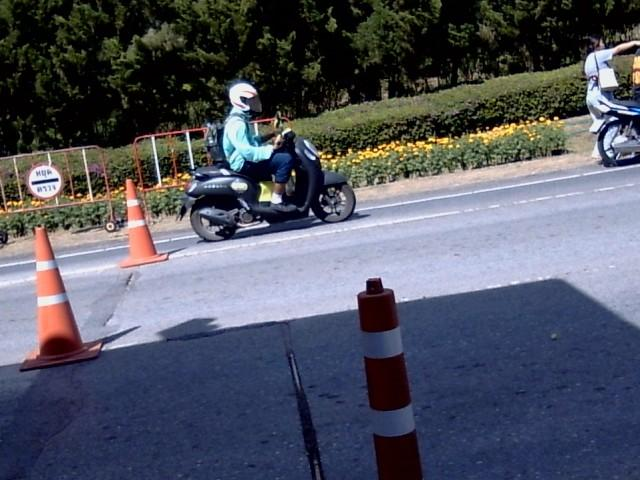helmet: (229, 85, 261, 112)
motor: (178, 129, 355, 240)
person: (222, 80, 293, 211)
